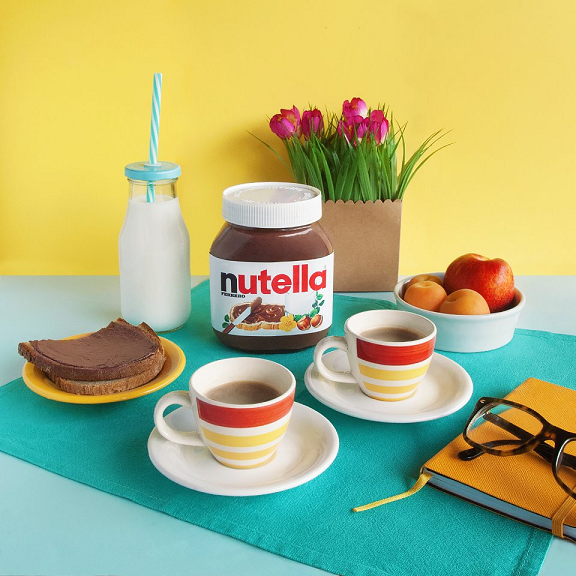nutella: (208, 182, 334, 355)
